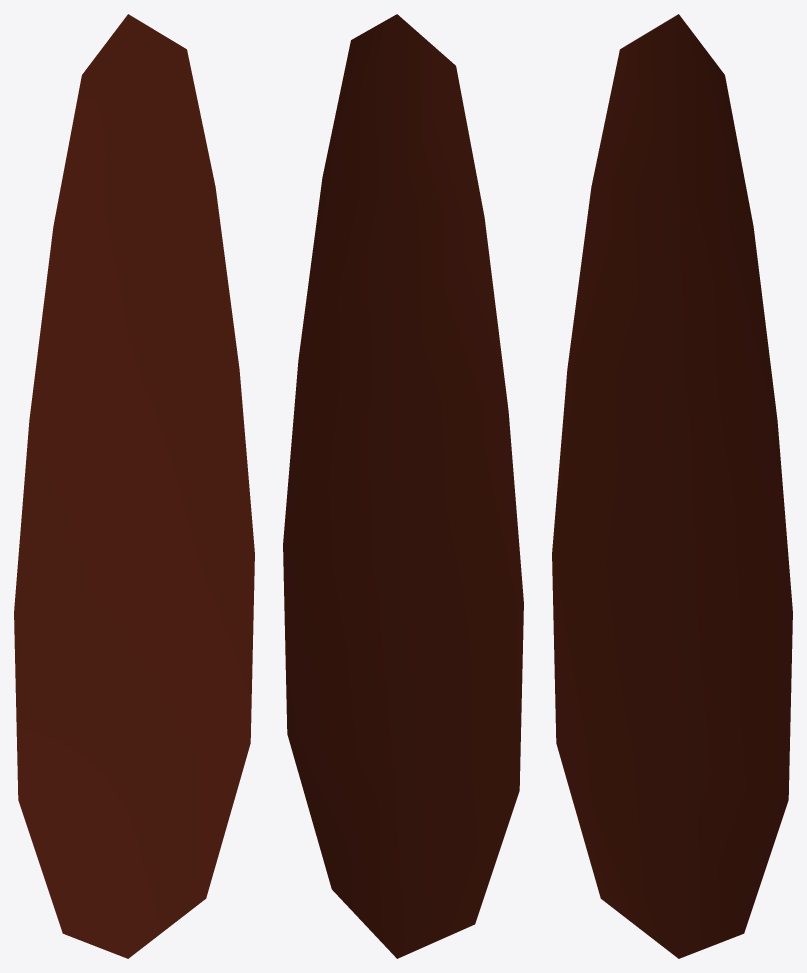
Rendered from finch_feather_flight_tertiary_034.obj.
3 renders of one model, left to right at view 1: azimuth 30°, elevation 25°; view 2: azimuth 150°, elevation 25°; view 3: azimuth 330°, elevation 25°, orthographic.
Visible parts, largest first — view 1: feather_flight_tertiary_034; view 2: feather_flight_tertiary_034; view 3: feather_flight_tertiary_034.
Part boxes in pixels (left/top/right/bottom): feather_flight_tertiary_034: left=14, top=14, right=254, bottom=958; feather_flight_tertiary_034: left=283, top=14, right=523, bottom=958; feather_flight_tertiary_034: left=552, top=14, right=792, bottom=958.
Size of the model in its own units: 0.00338 by 0.0127 by 0.000153.
